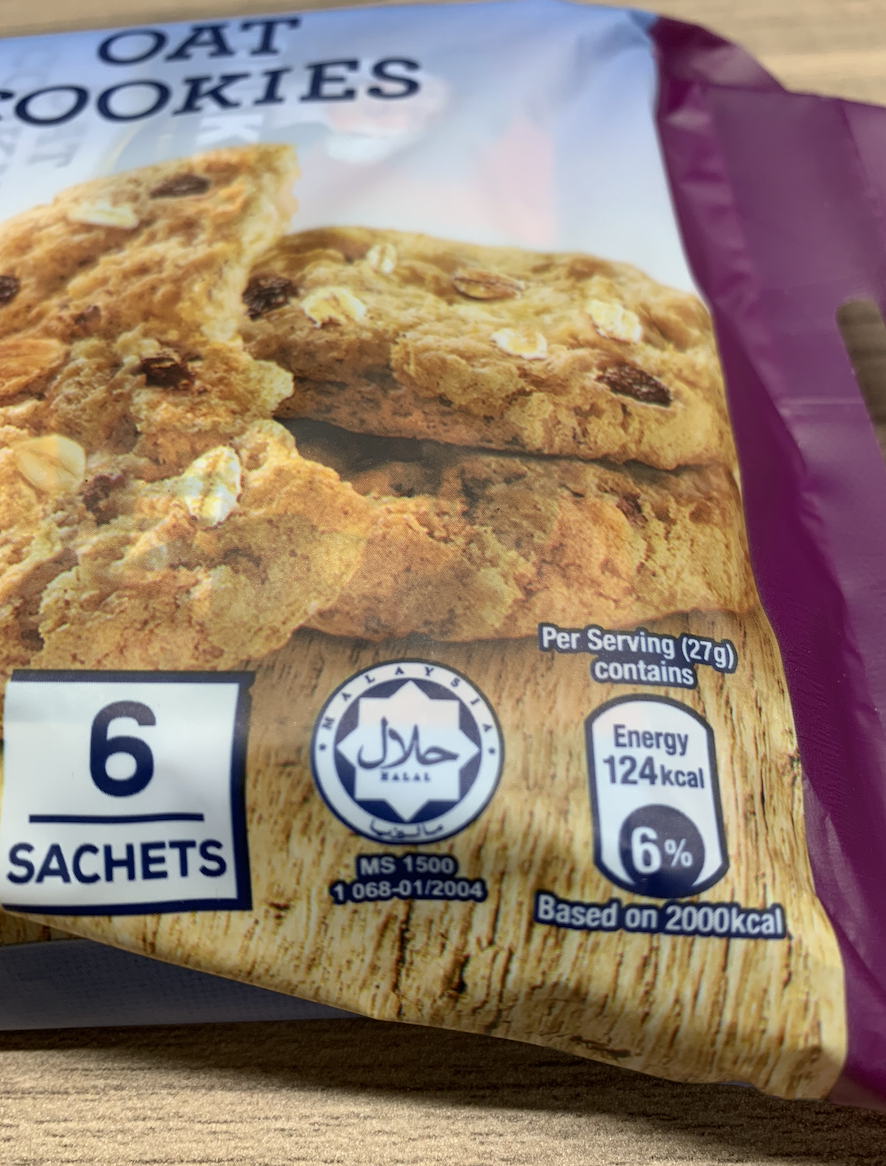halal: (347, 688, 472, 815)
